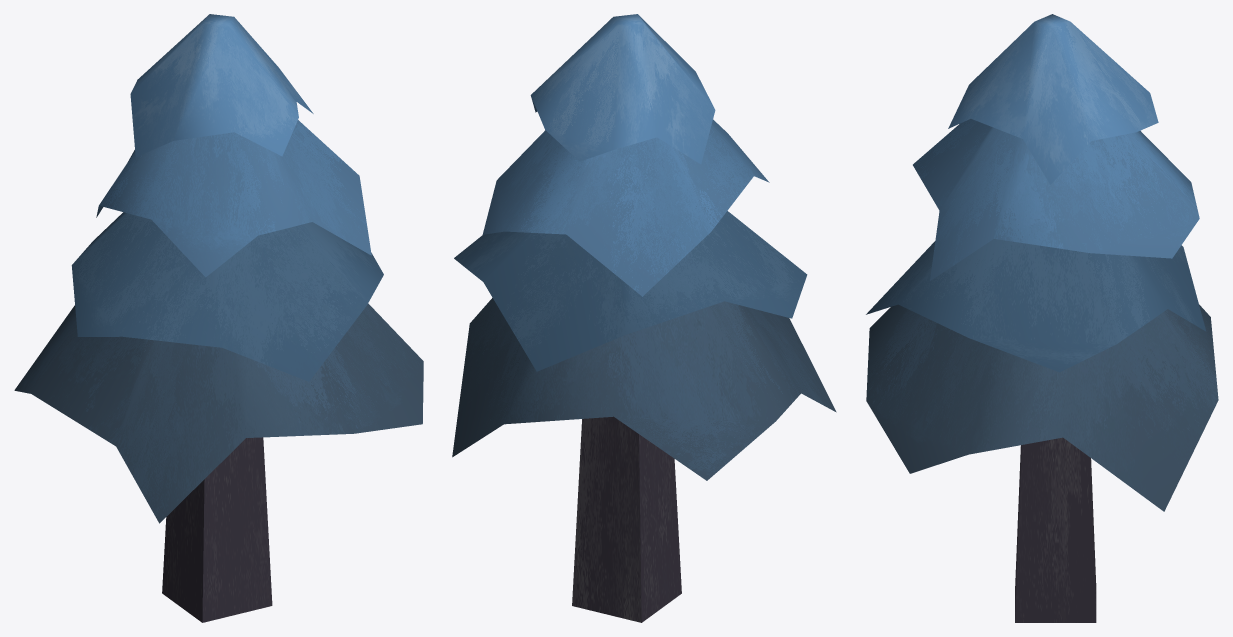
Rendered from Pine_Tree.fbx.
3 views of the same model, side by side, from view 1: azimuth 30°, elevation 25°; view 2: azimuth 150°, elevation 25°; view 3: azimuth 270°, elevation 25° (orthographic).
Parts seen in each view (by area): view 1: polySurface8; view 2: polySurface8; view 3: polySurface8.
Boxes of the visible parts, left/top/right/bottom form: polySurface8: left=14, top=14, right=423, bottom=622; polySurface8: left=452, top=14, right=836, bottom=622; polySurface8: left=866, top=14, right=1218, bottom=622.
Bounding box in the file's own units: 357 × 598 × 328.
